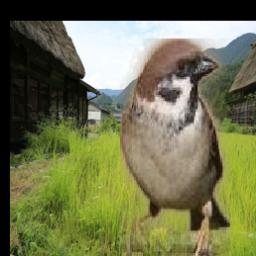Sparrow: (121, 40, 231, 256)
